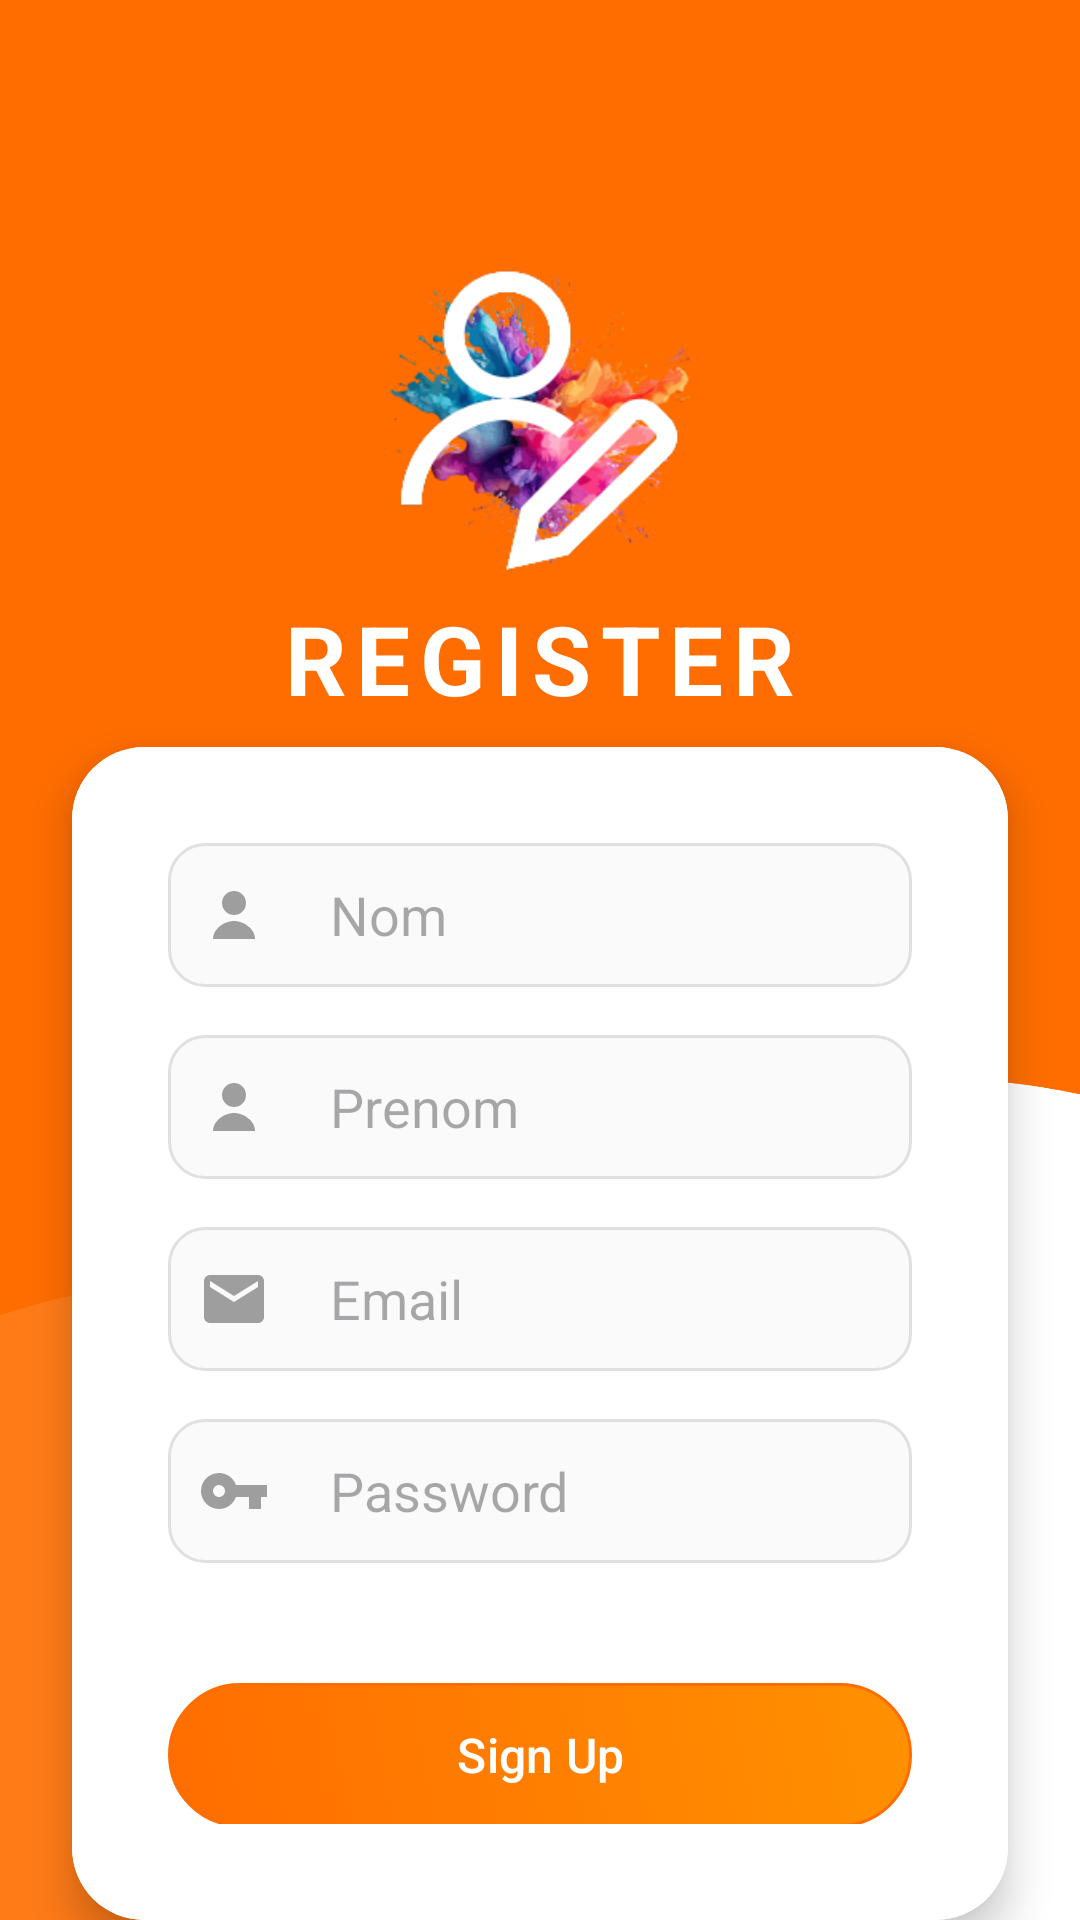

Where to tap for icons on this 1080 x 1920 app screen, as point (x, y):
user edit: point (540, 420)
